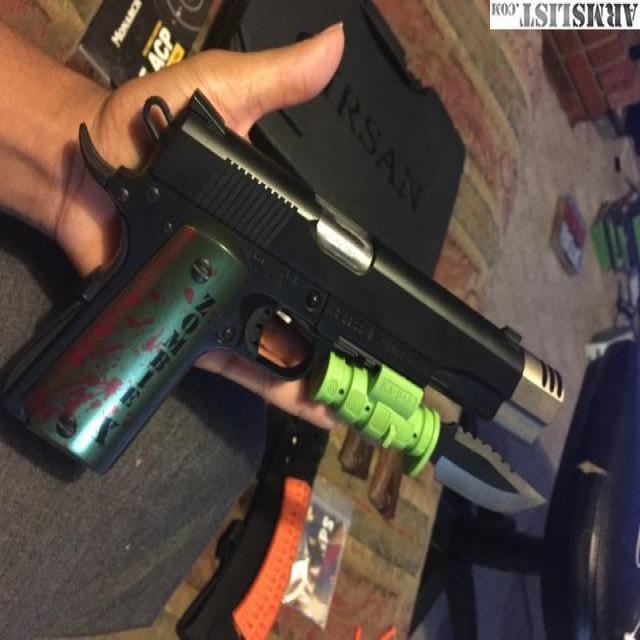HandGun: (0, 92, 564, 476)
Knife: (311, 337, 547, 515)
